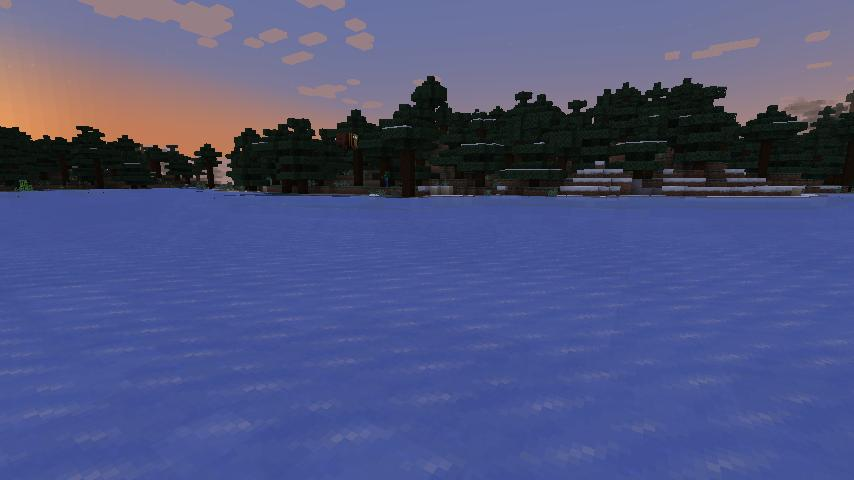bee: (335, 130, 359, 150)
